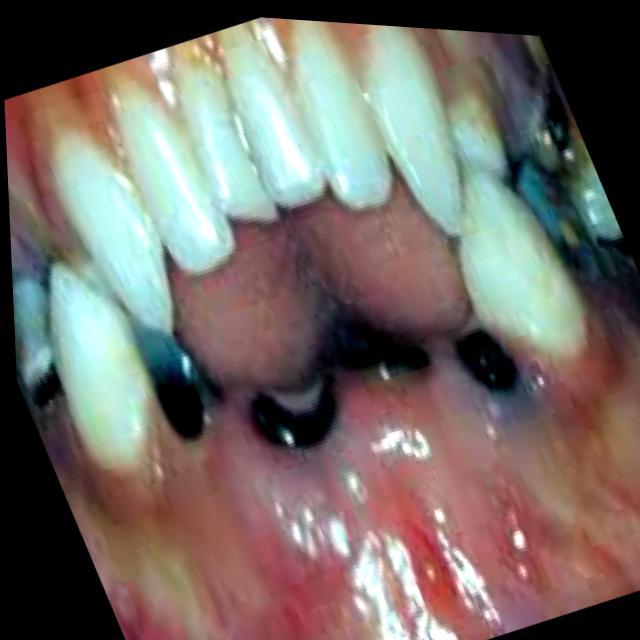cariess: (515, 53, 640, 291), (253, 324, 432, 450), (153, 359, 227, 442), (13, 279, 57, 398), (458, 333, 520, 395)
